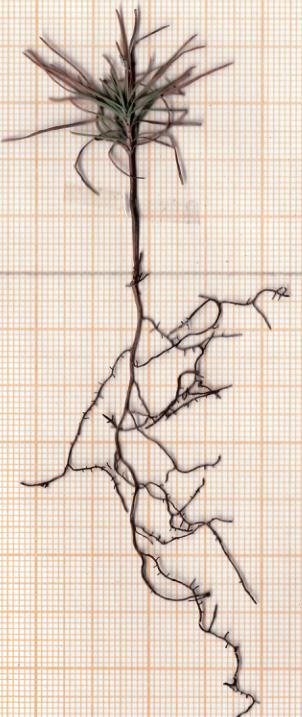flower: (5, 4, 240, 166)
root: (15, 282, 296, 716)
stem: (121, 164, 151, 286)
